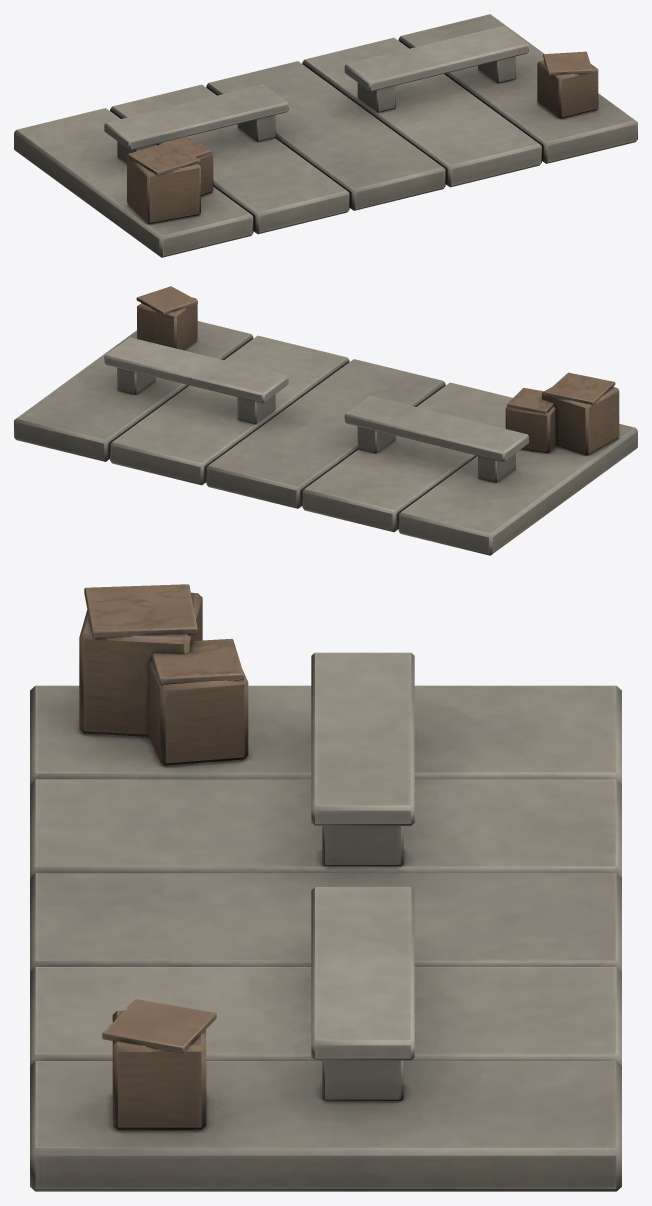
Rendered from skirt_fray_low.glb.
3 renders of one model, top to bottom at view 1: azimuth 30°, elevation 25°; view 2: azimuth 150°, elevation 25°; view 3: azimuth 270°, elevation 25°, orthographic. The views are drawn at different scales.
Visible parts, largest first — view 1: skirt_fray_low_body; view 2: skirt_fray_low_body; view 3: skirt_fray_low_body.
Boxes of the visible parts, box(x1,y1,x2,y2) form: skirt_fray_low_body: box(14, 14, 637, 257); skirt_fray_low_body: box(14, 286, 637, 555); skirt_fray_low_body: box(30, 584, 621, 1191).
Size of the model in its own units: 5.98 by 0.8915 by 3.2.
Materials: 1 (1 with a texture image).
